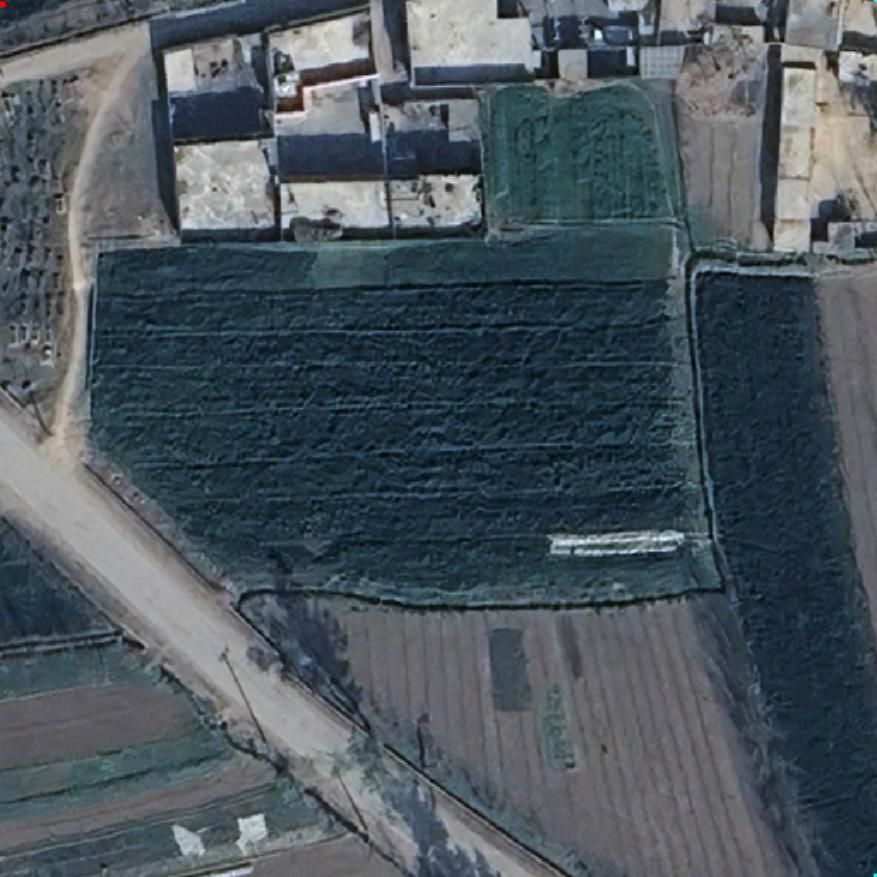Solarpanel: (636, 42, 686, 80)
